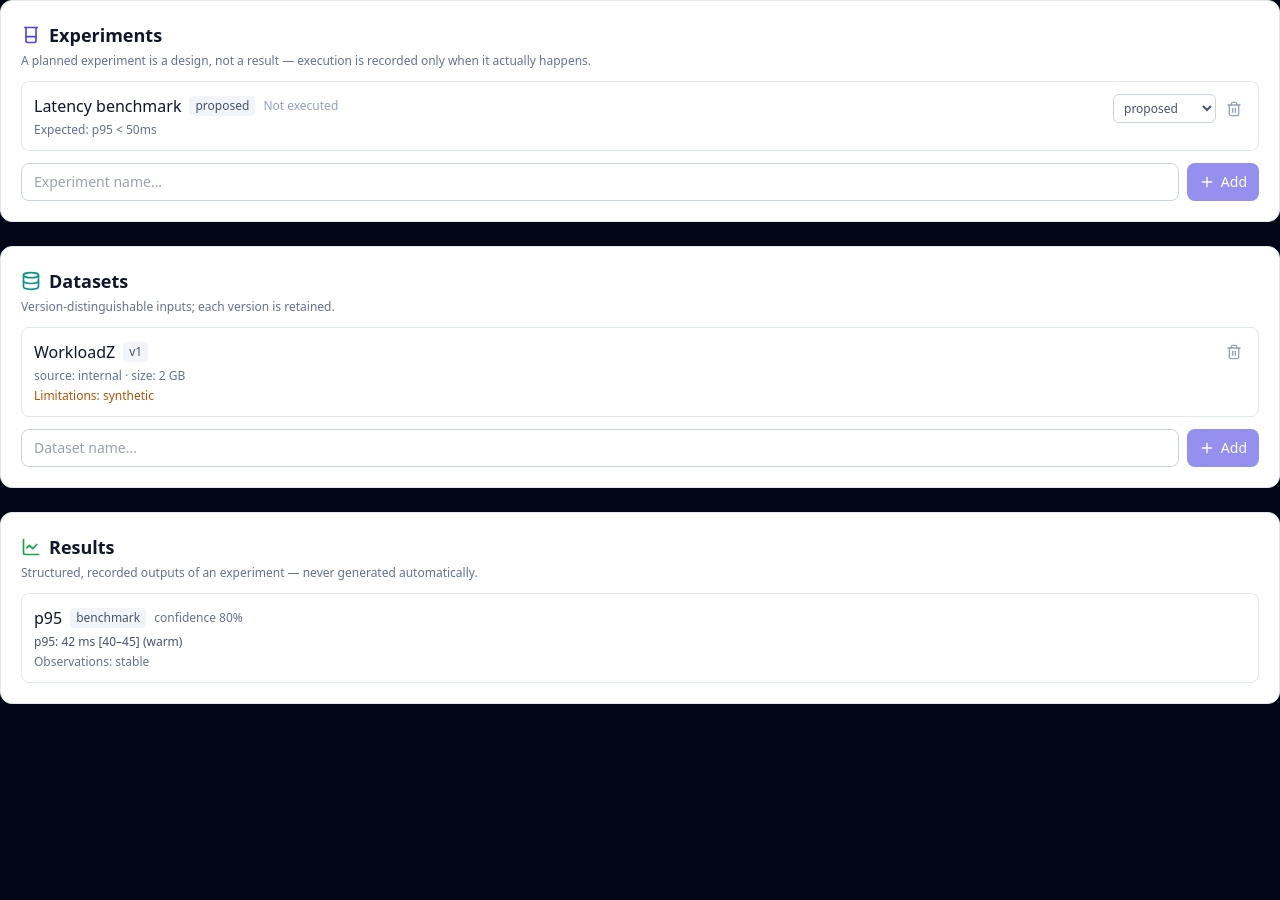
Scenario: ExperimentsPanel › creates an experiment
Expected: the text "Latency benchmark" is shown, [34,94,182,118]
Type "Throughput test" into the field with placeholder "Experiment name…".
click(600, 182); type("Throughput test")  # box [21,163,1179,201]
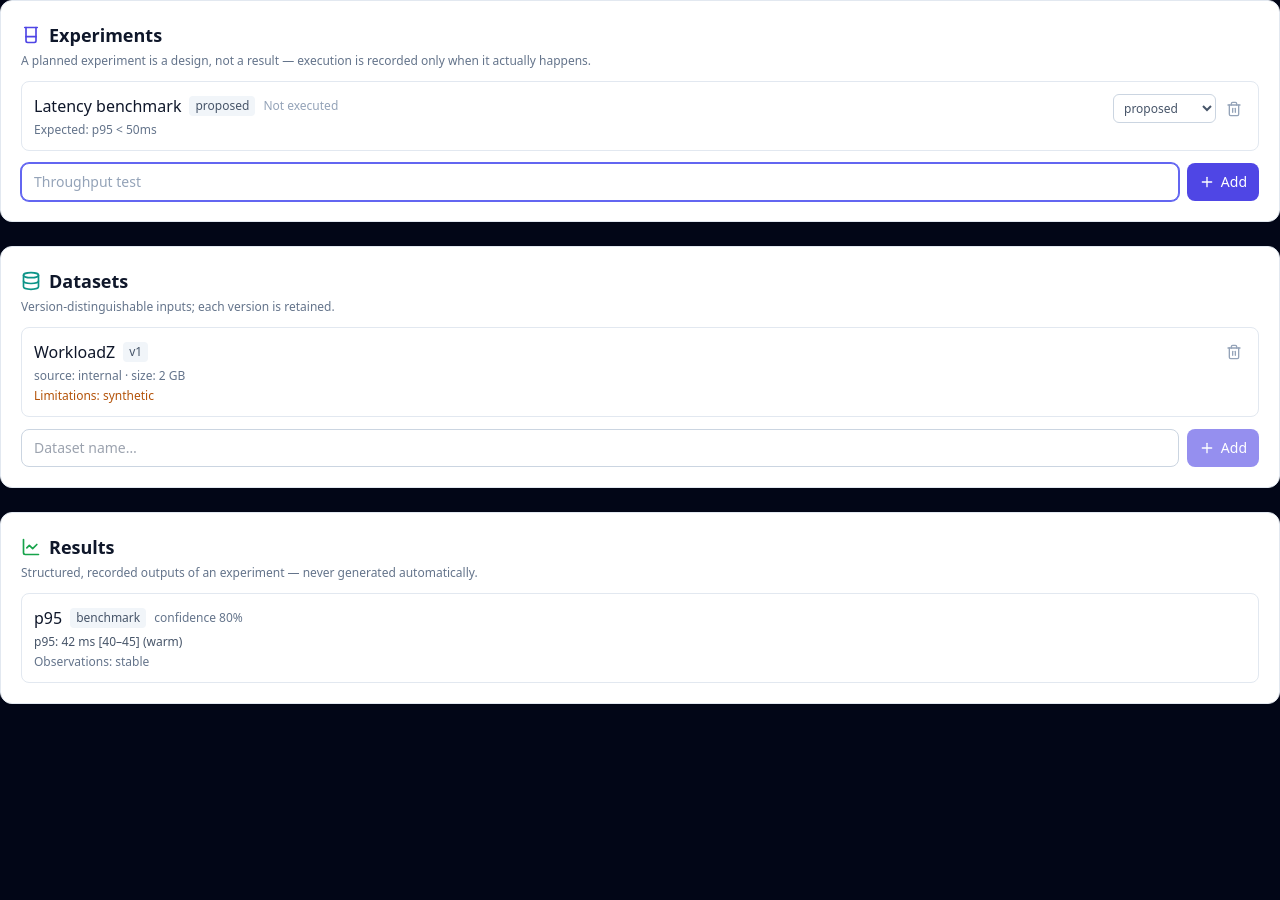
Click the 1st button "Add".
click(1223, 182)  # box [1187,163,1259,201]
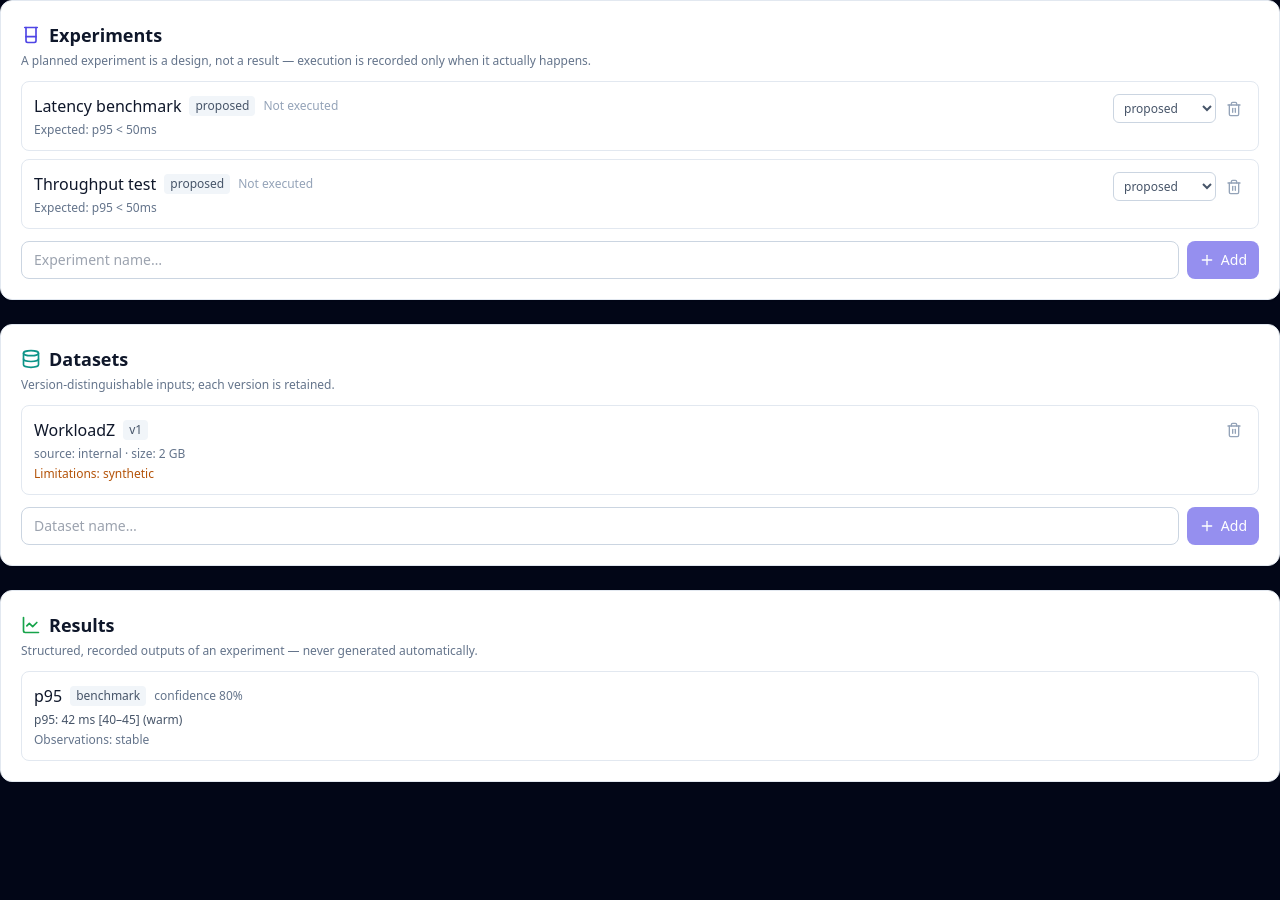
Now the text "Throughput test" is shown, box [34,172,156,196]
